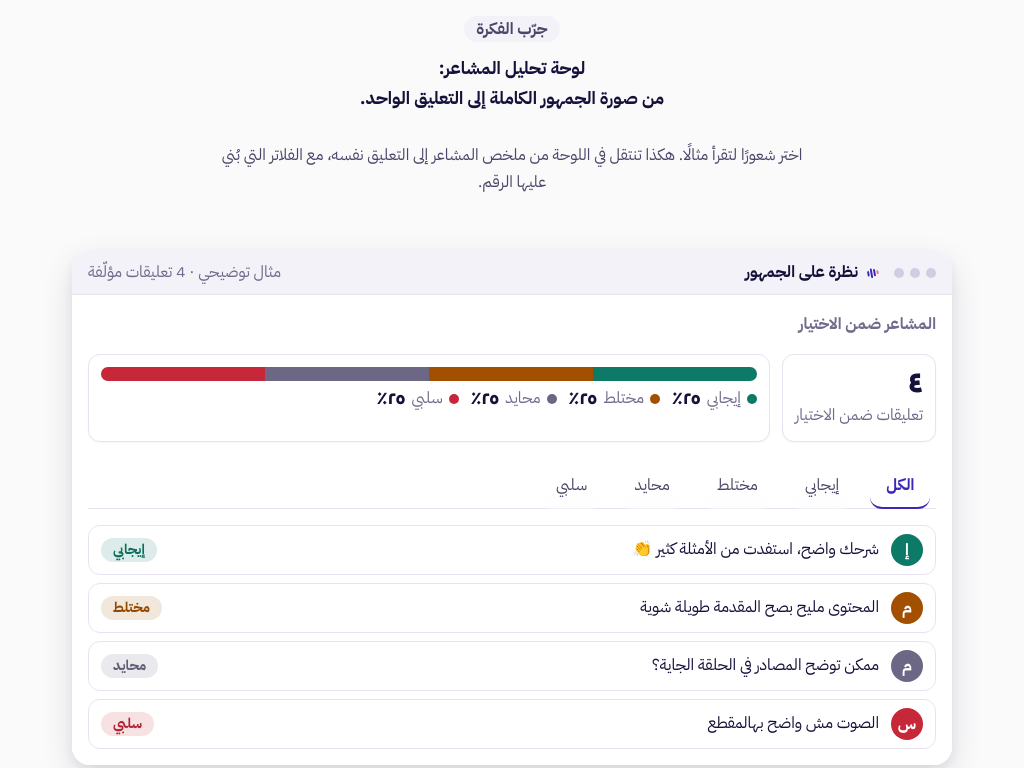
Test: Demo › is the #experience section with the interactive window and the dashboard link
The image size is (1024, 768).
Click the tab "سلبي".
click(572, 486)  # box left=540, top=464, right=603, bottom=509
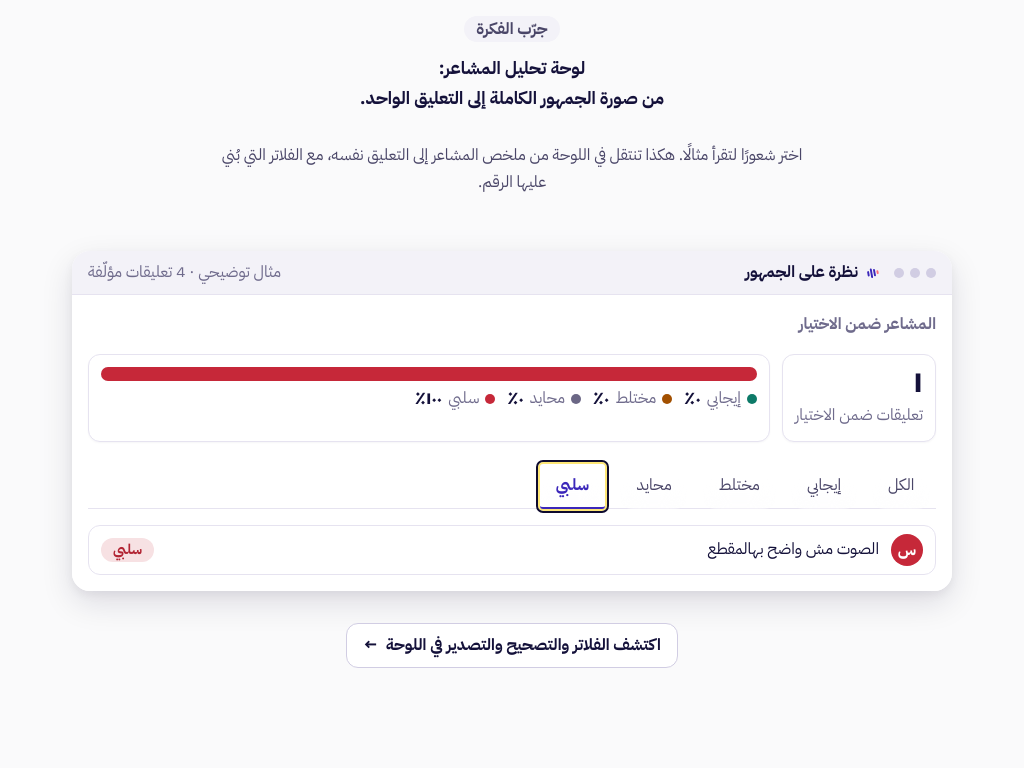
Expected: the number of elements with class "lp-example-comment" is 1, left=88, top=525, right=936, bottom=575
